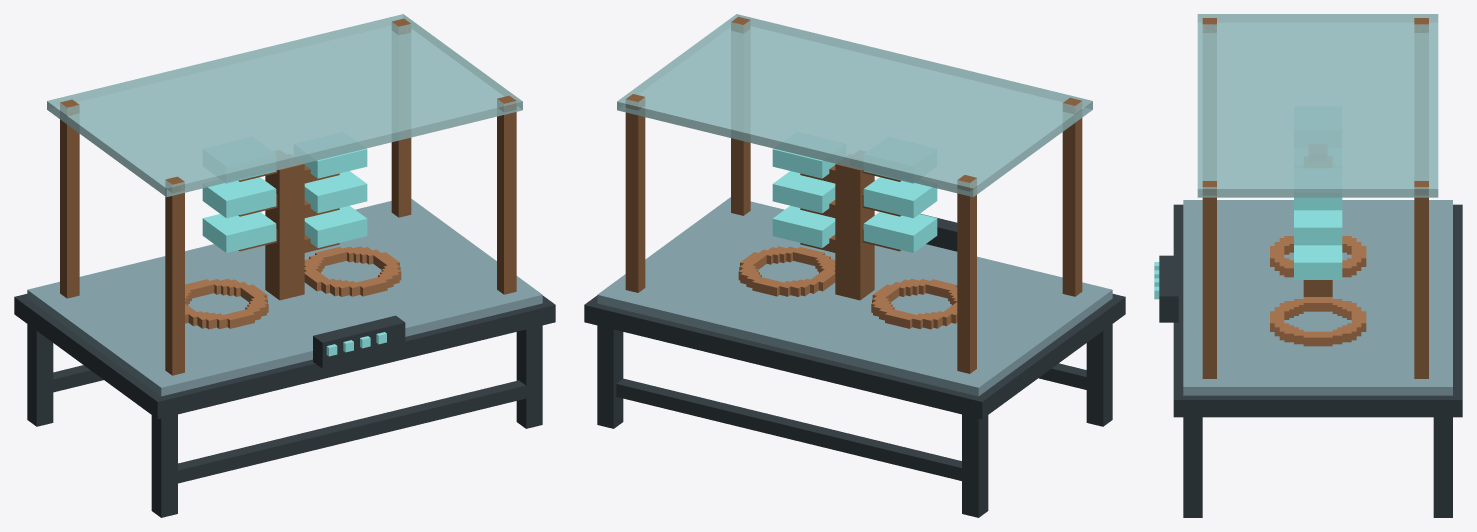
The model's file is arcane_studies_station_t9.glb.
The picture shows the model from 3 angles, left to right: view 1: azimuth 30°, elevation 25°; view 2: azimuth 150°, elevation 25°; view 3: azimuth 270°, elevation 25°; orthographic projection.
Visible parts, largest first — view 1: arcane_studies_station_t9/growth_chamber, arcane_studies_station_t9/work_surface, arcane_studies_station_t9/frame; view 2: arcane_studies_station_t9/growth_chamber, arcane_studies_station_t9/work_surface, arcane_studies_station_t9/frame; view 3: arcane_studies_station_t9/growth_chamber, arcane_studies_station_t9/work_surface, arcane_studies_station_t9/frame.
Boxes of the visible parts, x1,y1,x2,y2 form: arcane_studies_station_t9/growth_chamber: (47,14,522,375); arcane_studies_station_t9/work_surface: (27,199,542,396); arcane_studies_station_t9/frame: (14,294,555,517); arcane_studies_station_t9/growth_chamber: (617,14,1092,373); arcane_studies_station_t9/work_surface: (597,197,1112,396); arcane_studies_station_t9/frame: (584,294,1125,517); arcane_studies_station_t9/growth_chamber: (1197,14,1438,378); arcane_studies_station_t9/work_surface: (1154,200,1452,395); arcane_studies_station_t9/frame: (1173,204,1462,517).
Size of the model in its own units: 3 by 2.31 by 2.
